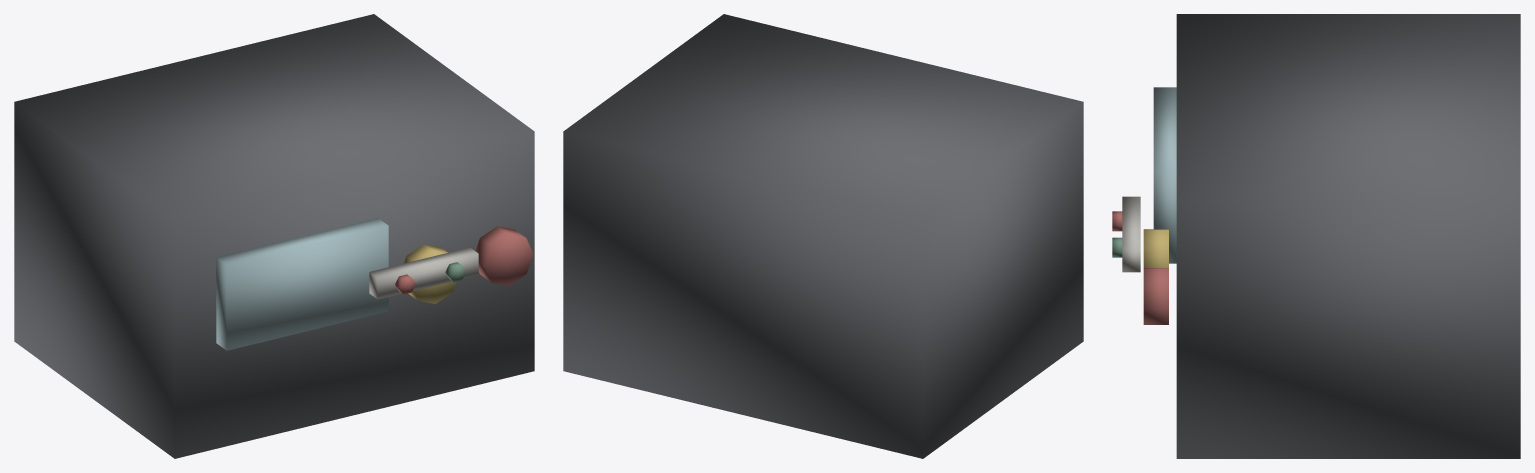
Rendered from component_tester.glb.
3 renders of one model, left to right at view 1: azimuth 30°, elevation 25°; view 2: azimuth 150°, elevation 25°; view 3: azimuth 270°, elevation 25°, orthographic. The views are drawn at different scales.
Visible parts, largest first — view 1: world; view 2: world; view 3: world.
Boxes of the visible parts, x1,y1,x2,y2 form: world: (14,14,534,458); world: (563,14,1083,458); world: (1112,14,1520,458).
Bounding box in the file's own units: 0.44 × 0.28 × 0.4035.
